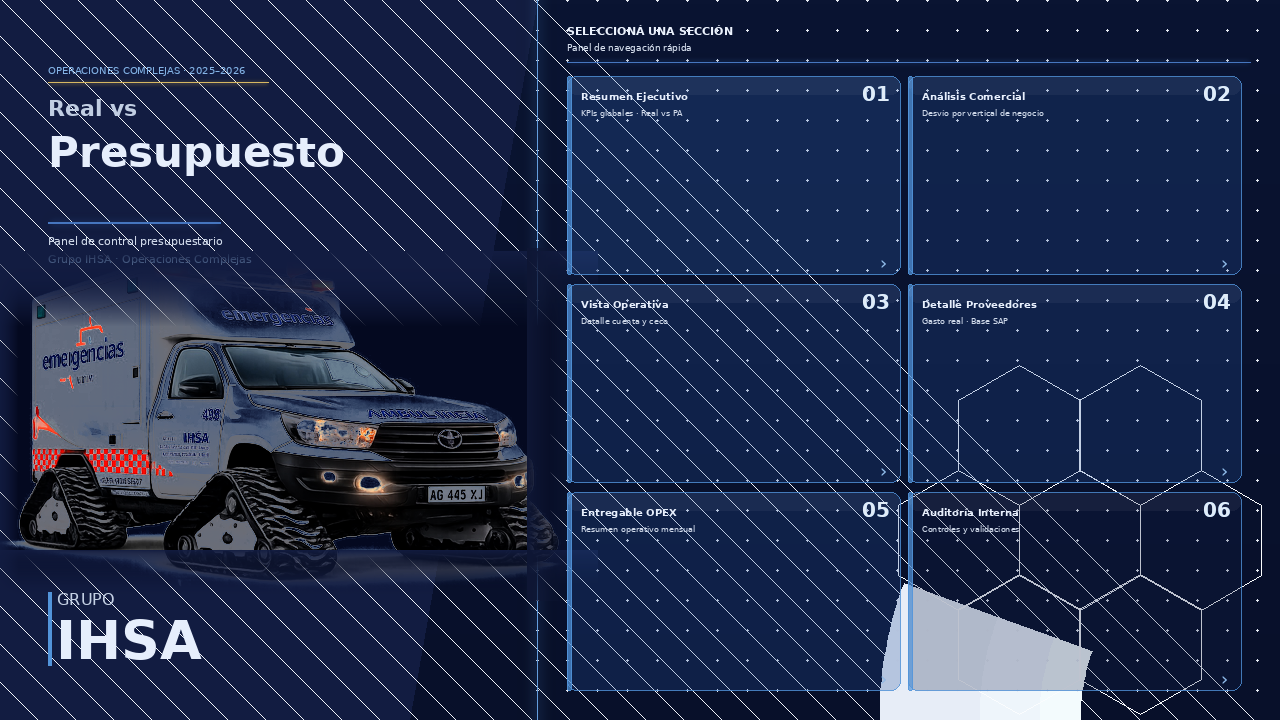

This screenshot's page, from the dashboard's own definition file:
{"tool":"powerbi","page":{"name":"0. Índice","canvas":[1280,720],"ordinal":0},"visuals":[{"type":"pageNavigator","box":[544,64,736,640],"z":0},{"type":"image","box":[0,240,496,480],"z":1000}]}

Visuals, with their boxes in screenshot pixels (x1, y1, x2, y2), scaled from the page's 1280x720 canvas onto the 1280x720 screenshot:
pageNavigator: (544, 64, 1279, 704)
image: (0, 240, 496, 719)
